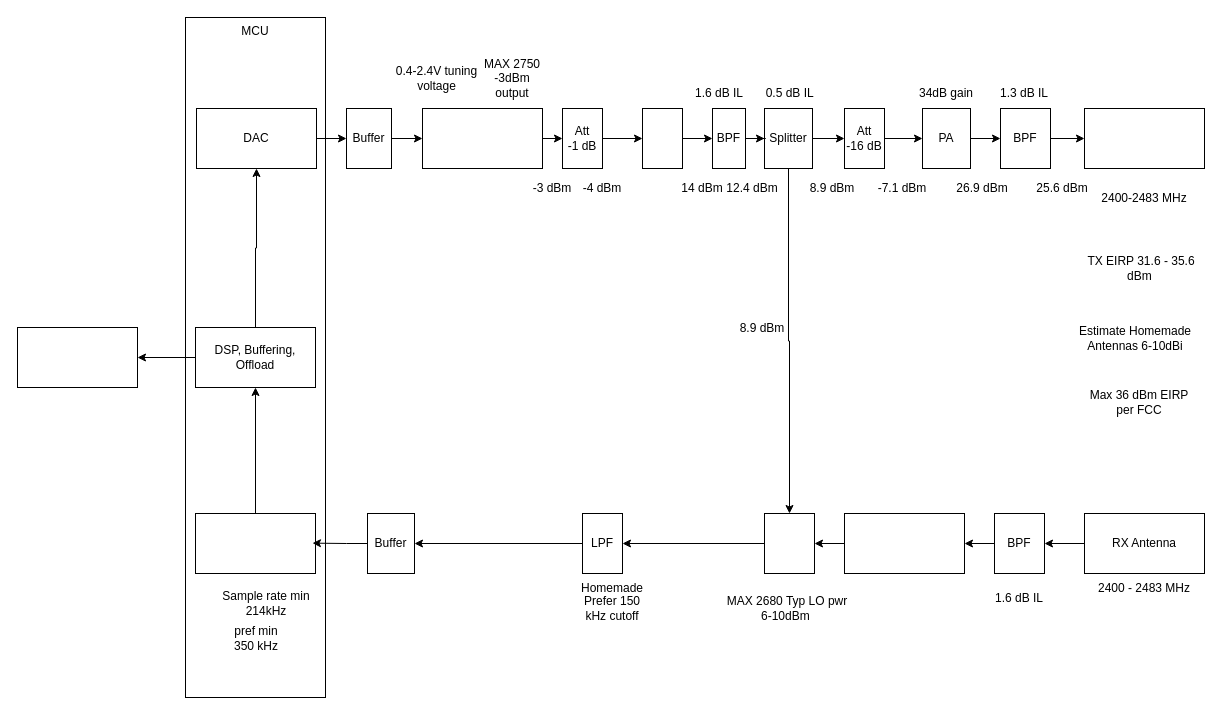
This 1222x715 diagram has some shape labels left out. Here are the shapes that lost their labels. From the top down, the box of each, then its label:
(422, 108, 542, 168): Voltage Controlled Oscillator
(642, 108, 682, 168): GB 18 dB
(1084, 108, 1204, 168): TX Antenna
(16, 326, 138, 388): Raspberry Pi UI
(194, 512, 316, 574): ADC
(764, 512, 814, 574): Mixer
(844, 512, 964, 574): Low Noise Amplifier
